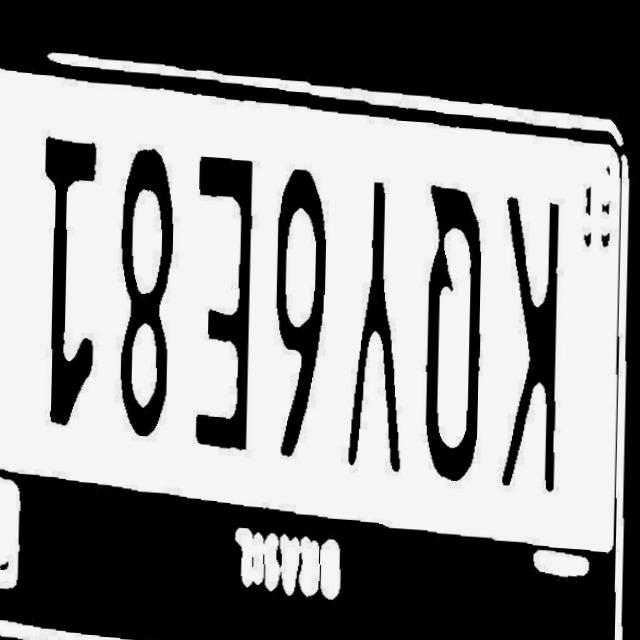1: (32, 135, 102, 427)
6: (267, 159, 335, 459)
8: (112, 139, 179, 441)
e: (189, 148, 262, 453)
k: (498, 187, 572, 488)
q: (418, 174, 490, 480)
y: (341, 176, 416, 471)
